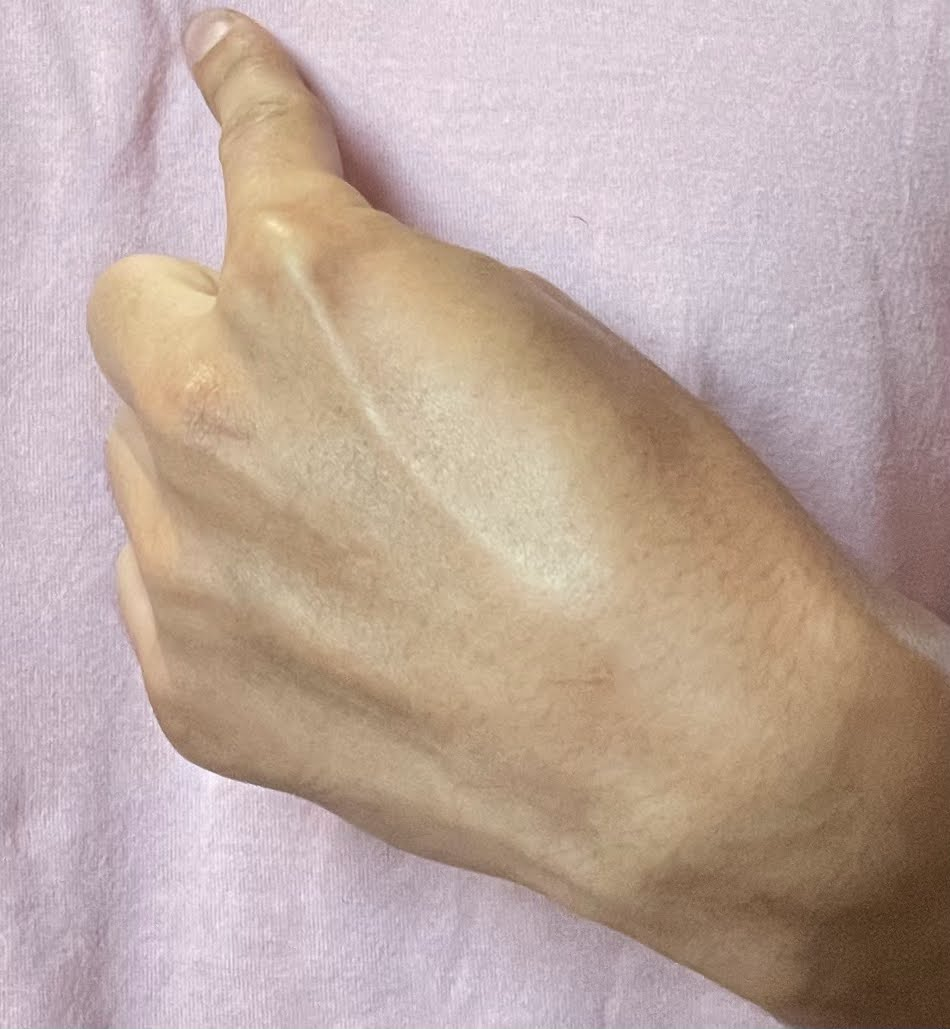I: (65, 6, 943, 1023)
